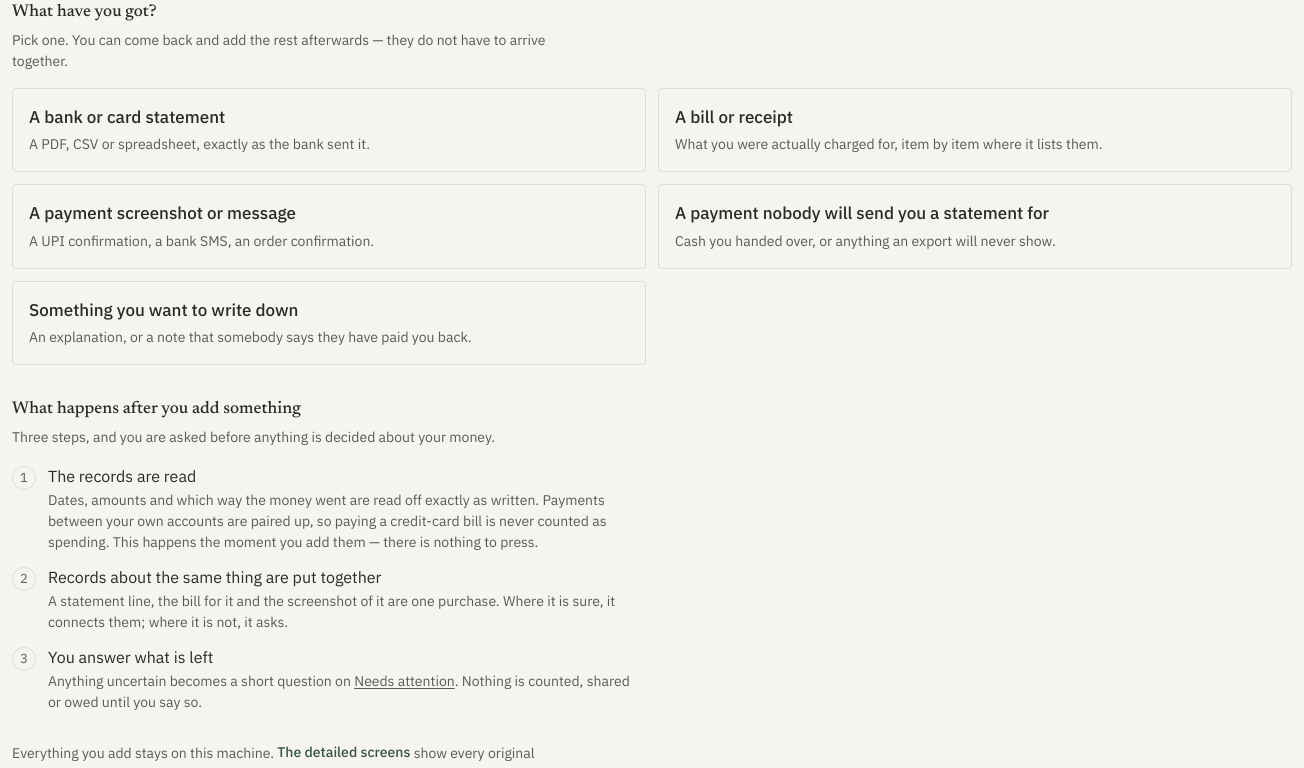
Test case: Add records › says plainly that a note about a repayment moves no money
Click the button "Something you want to write down".
click(164, 310)  # box [12,280,646,365]
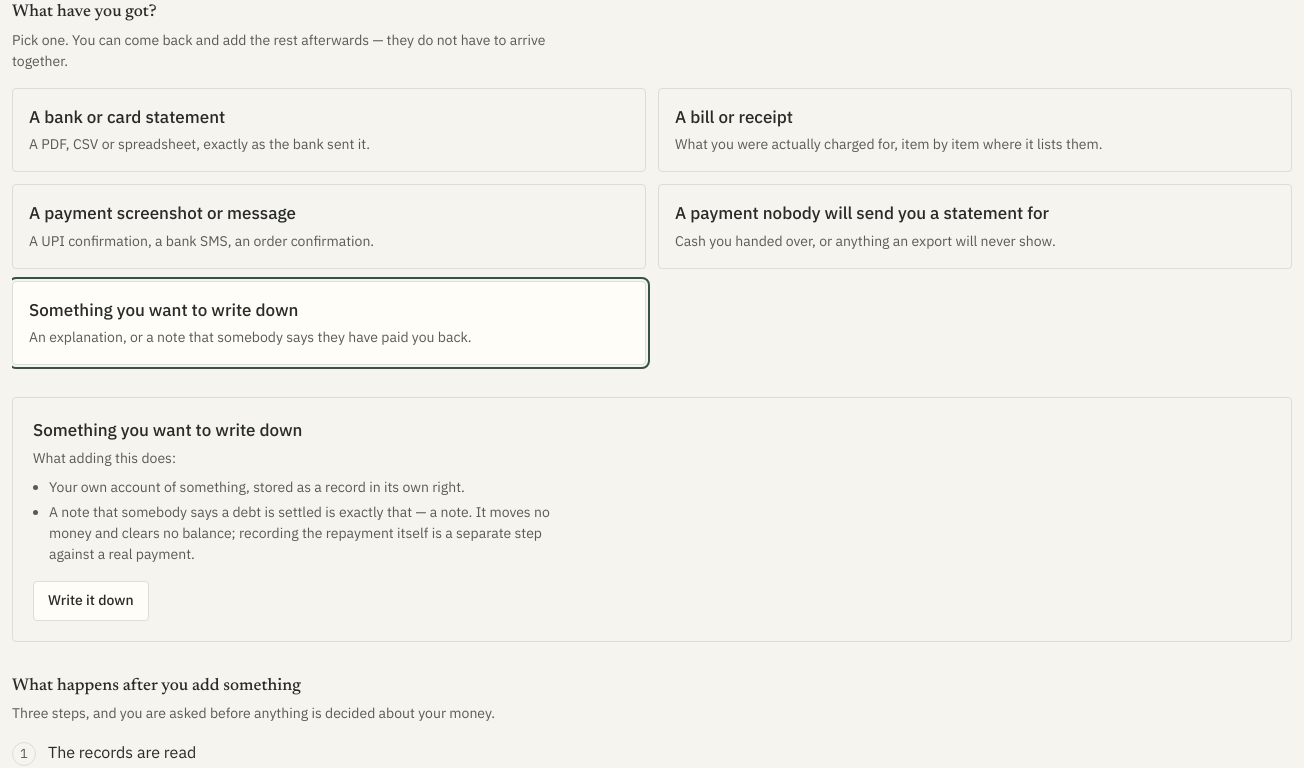
Check: the list item "It moves no money and clears no balance" is shown, box [49,502,550,562]
